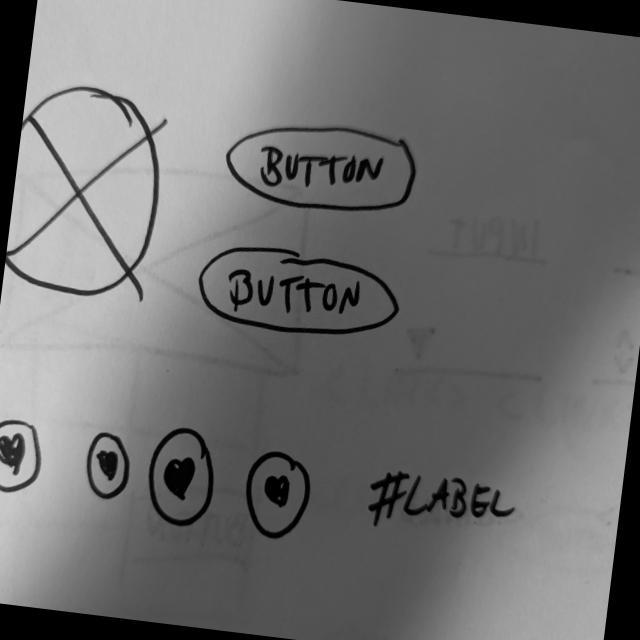button: (191, 237, 409, 349), (218, 111, 425, 228)
icon-button: (141, 420, 226, 536), (236, 444, 317, 547), (82, 426, 137, 506), (1, 413, 49, 501)
image: (3, 77, 174, 307)
label: (363, 462, 526, 549)
